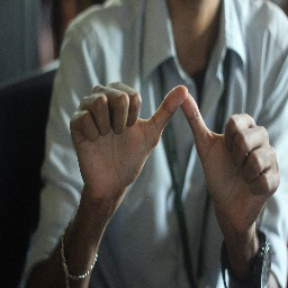A: (90, 75, 265, 203)
